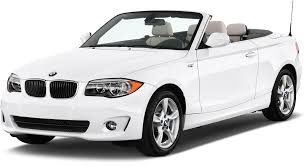bmw: (1, 5, 304, 158)
